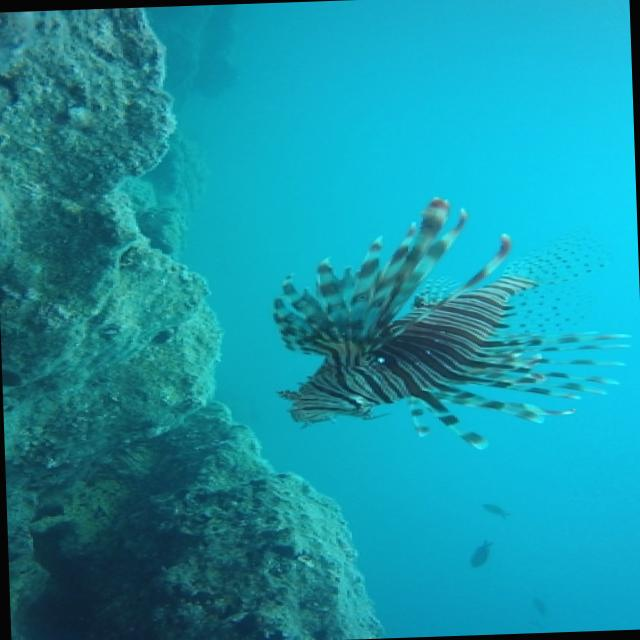Aslan Baligi: (266, 189, 638, 457)
